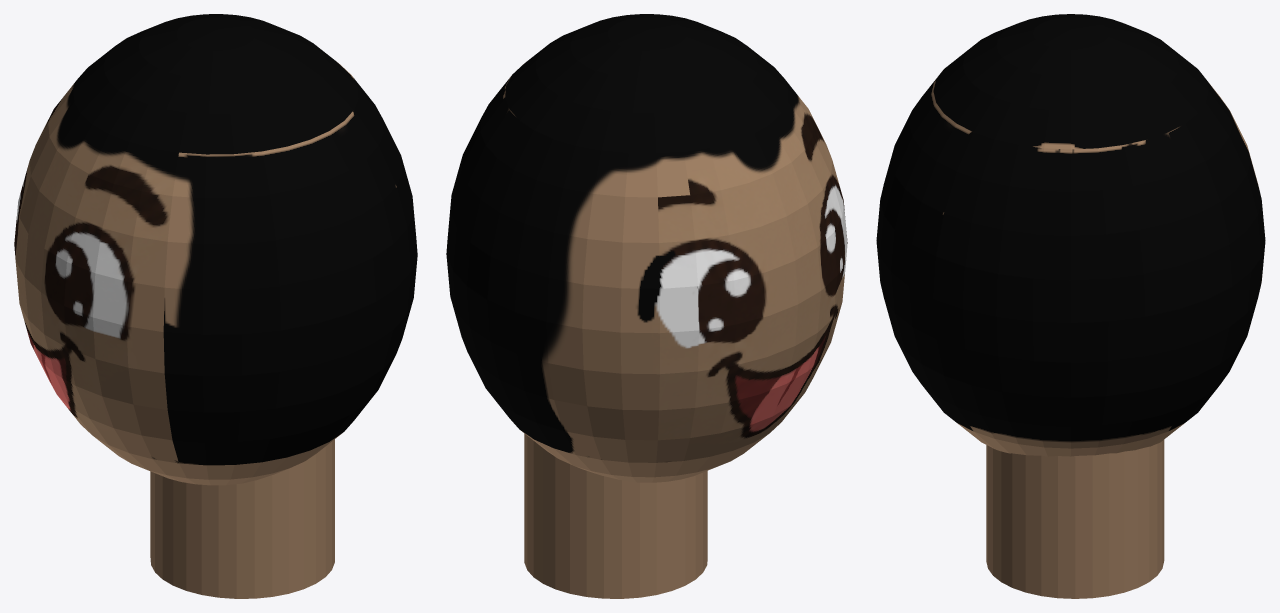
Rendered from Cabeza_Jugador.obj.
3 views of the same model, side by side, from view 1: azimuth 30°, elevation 25°; view 2: azimuth 150°, elevation 25°; view 3: azimuth 270°, elevation 25° (orthographic). The views are drawn at different scales.
Parts seen in each view (by area): view 1: Cabeza_Jugador; view 2: Cabeza_Jugador; view 3: Cabeza_Jugador.
Boxes of the visible parts, bbox=[...] form: Cabeza_Jugador: bbox=[14, 14, 417, 598]; Cabeza_Jugador: bbox=[446, 14, 847, 598]; Cabeza_Jugador: bbox=[876, 14, 1265, 598].
Size of the model in its own units: 1.75 by 2.57 by 1.75.
1 material, 1 textured.
